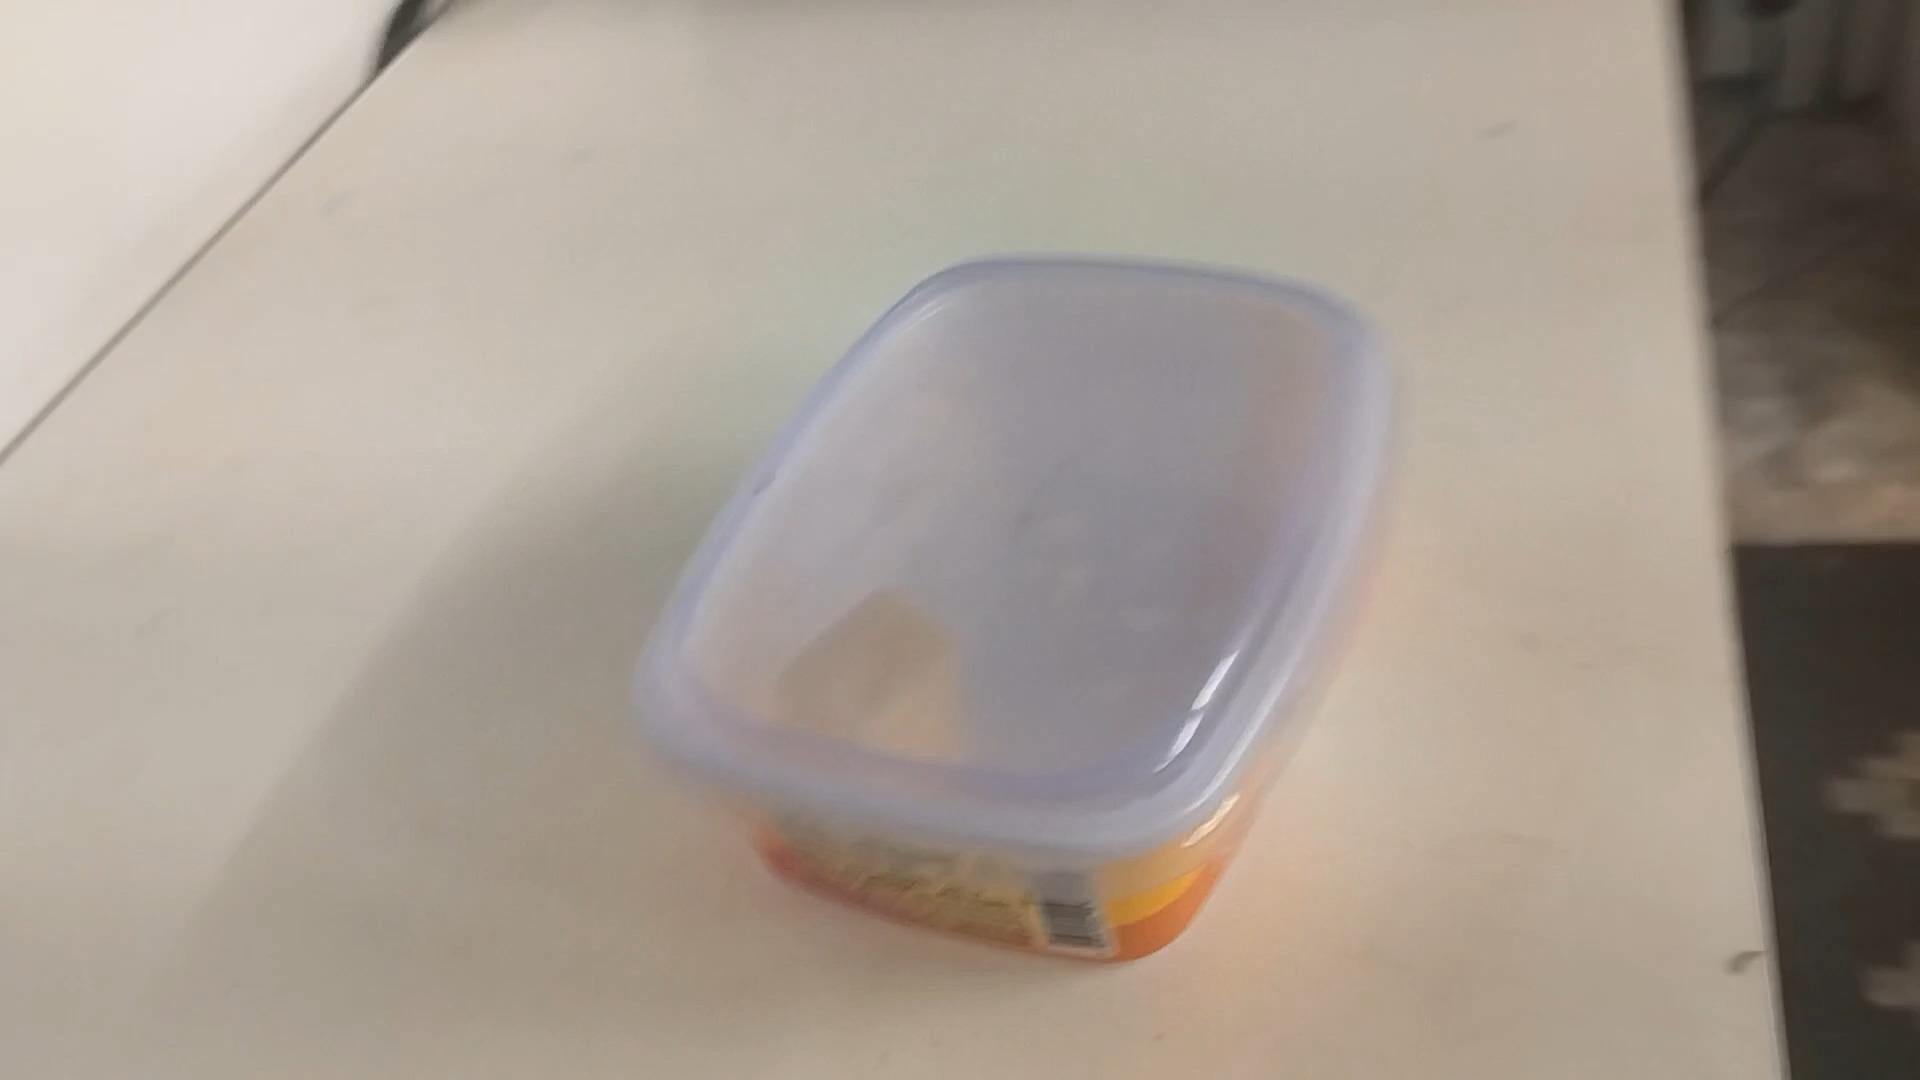butter: (618, 257, 1399, 973)
